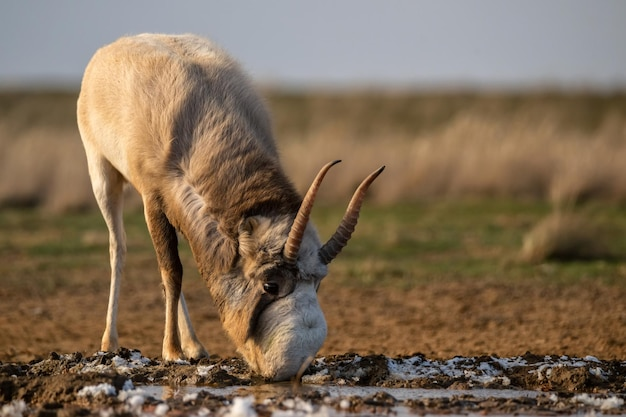saiga: (68, 28, 391, 417)
